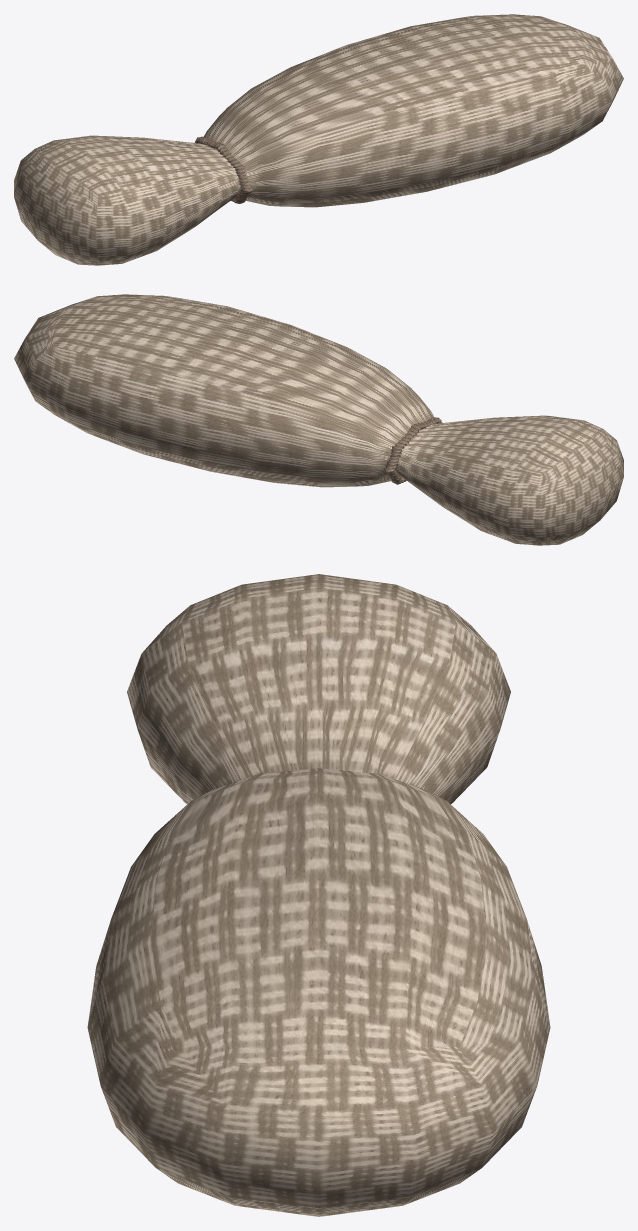
File: BodySack.fbx
3 renders of one model, top to bottom at view 1: azimuth 30°, elevation 25°; view 2: azimuth 150°, elevation 25°; view 3: azimuth 270°, elevation 25°, orthographic. The views are drawn at different scales.
Visible parts, largest first — view 1: Cube, Circle.002; view 2: Cube, Circle.002; view 3: Cube.
Boxes of the visible parts, left/top/right/bottom form: Cube: left=14, top=14, right=623, bottom=265; Circle.002: left=194, top=136, right=253, bottom=203; Cube: left=14, top=294, right=623, bottom=545; Circle.002: left=383, top=417, right=442, bottom=484; Cube: left=87, top=574, right=550, bottom=1216.
Bounding box in the file's own units: 686 × 141 × 238.
2 materials, 2 textured.
